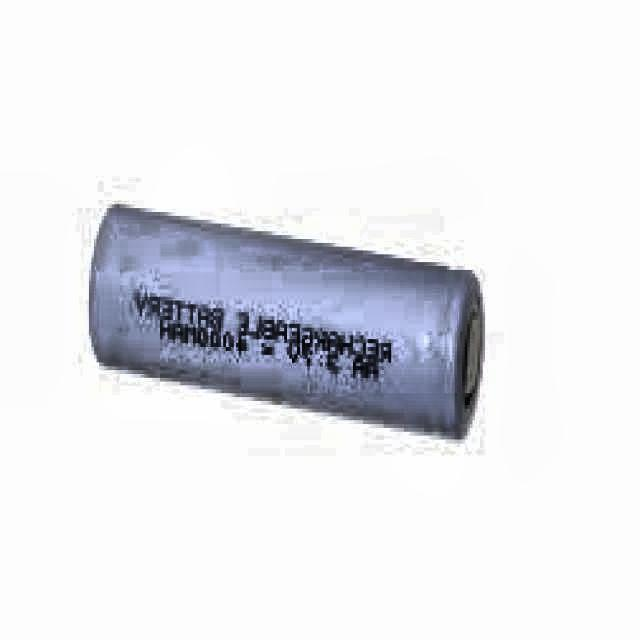Non-Valuable Waste - Batteries: (91, 204, 485, 436)
